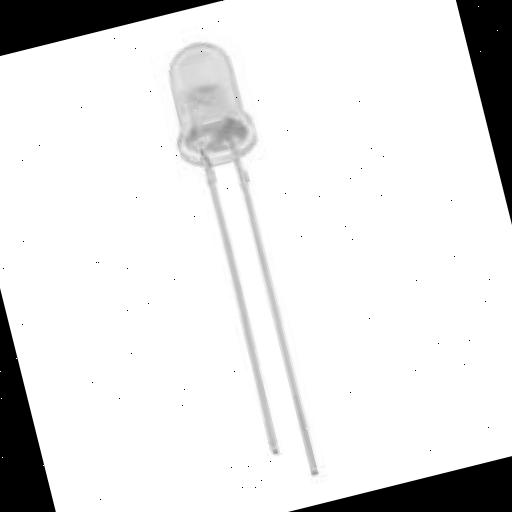LED: (114, 0, 432, 512)
